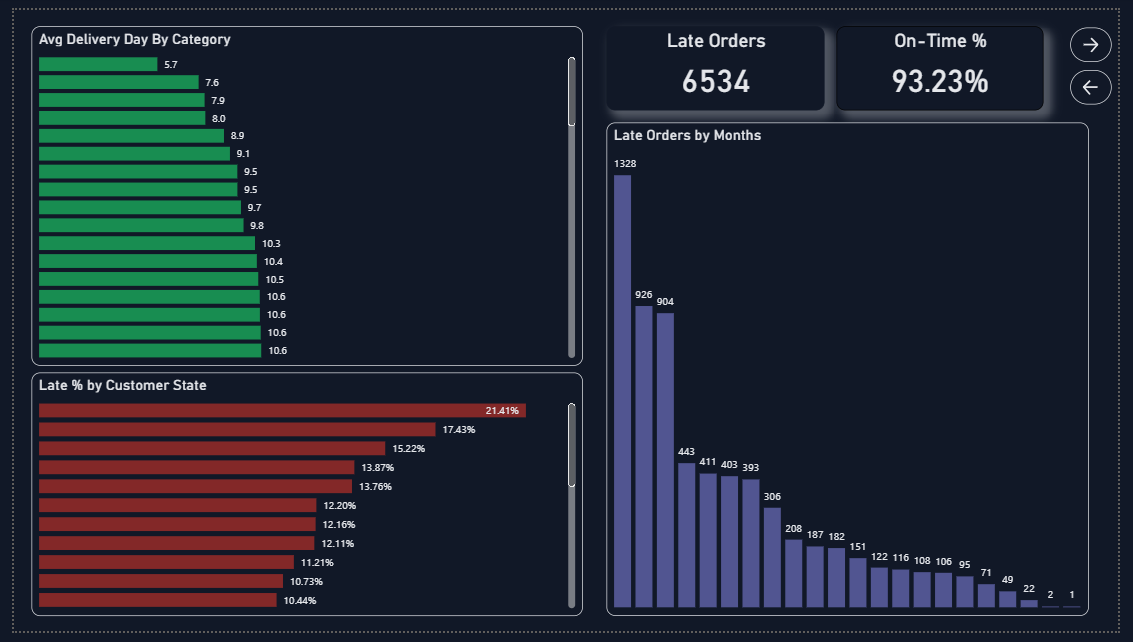

The page's visual inventory and layout, read from the dashboard file:
{"tool":"powerbi","page":{"name":"Delivery & Logistics","canvas":[1280,720],"ordinal":5},"visuals":[{"type":"card","title":"Late Orders","fields":{"Values":["public bi_fact_sales.Late Orders"]},"box":[687.2,18.3,253.1,97.8],"z":0},{"type":"card","title":"On-Time %","fields":{"Values":["public bi_fact_sales.On-time %"]},"box":[953.8,18.3,239.7,97.8],"z":1000},{"type":"clusteredColumnChart","title":"Late Orders by Months","fields":{"Category":["DimDate.Year-Month"],"Y":["public bi_fact_sales.Late Orders"]},"box":[687.2,130.8,558.8,572.3],"z":2000},{"type":"barChart","title":"Avg Delivery Day By Category","fields":{"Category":["public bi_fact_sales.category"],"Y":["public bi_fact_sales.Avg Delivery Days"]},"box":[19.6,18.3,639.5,393.8],"z":3000},{"type":"barChart","title":"Late % by Customer State","fields":{"Category":["public bi_fact_sales.customer_state"],"Y":["public bi_fact_sales.Late %"]},"box":[19.6,420.7,639.5,282.5],"z":4000},{"type":"actionButton","box":[1224.1,69.7,47.7,40.4],"z":5000},{"type":"actionButton","box":[1224.1,19.6,47.7,40.4],"z":6000}]}

Visuals, with their boxes in screenshot pixels (x1, y1, x2, y2), scaled from the page's 1280x720 canvas onto the 1133x642 screenshot:
"Late Orders" card: detection(608, 16, 832, 104)
"On-Time %" card: detection(844, 16, 1056, 104)
"Late Orders by Months" clusteredColumnChart: detection(608, 117, 1103, 627)
"Avg Delivery Day By Category" barChart: detection(17, 16, 583, 367)
"Late % by Customer State" barChart: detection(17, 375, 583, 627)
actionButton: detection(1084, 62, 1126, 98)
actionButton: detection(1084, 17, 1126, 54)
